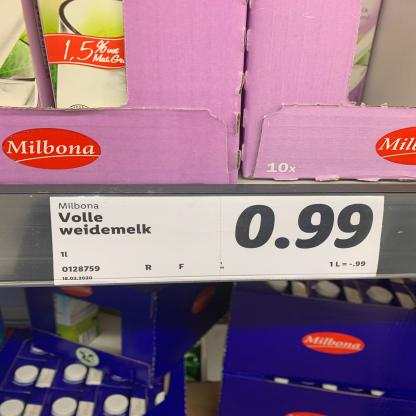prtg: (50, 196, 385, 287)
